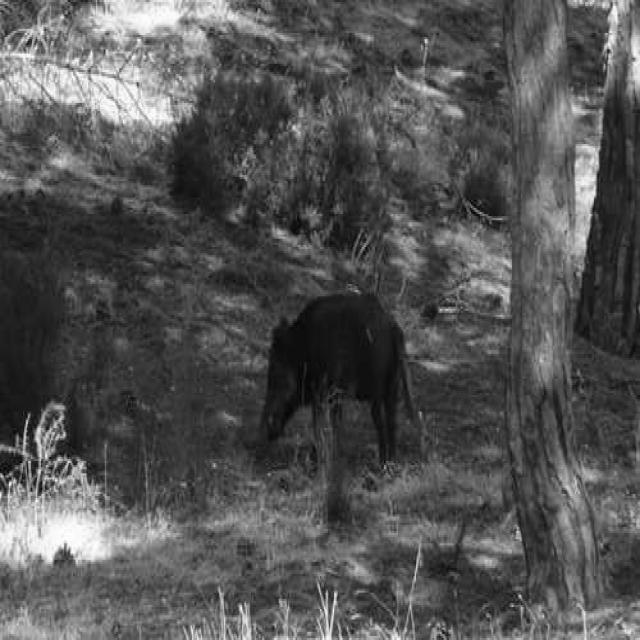boar: (264, 296, 413, 464)
